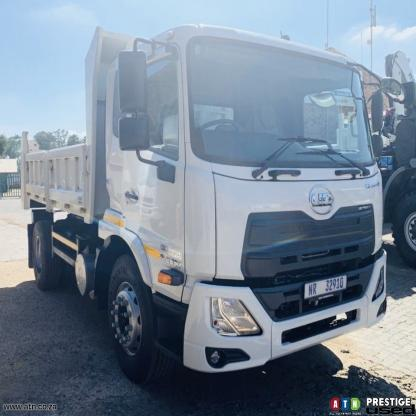dump_truck: (10, 11, 402, 396)
